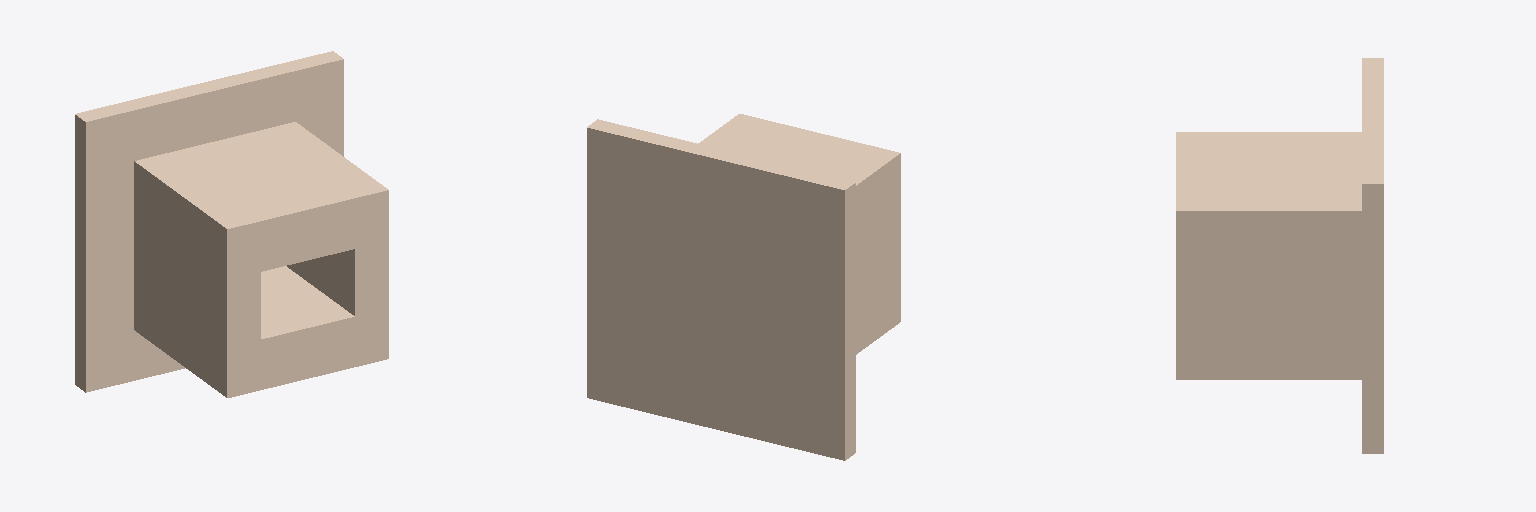
Rendered from industreal_tray_pick_rectangular_peg_12mm.obj.
3 renders of one model, left to right at view 1: azimuth 30°, elevation 25°; view 2: azimuth 150°, elevation 25°; view 3: azimuth 270°, elevation 25°, orthographic.
Visible parts, largest first — view 1: industreal_tray_pick_rectangular_peg_12mm; view 2: industreal_tray_pick_rectangular_peg_12mm; view 3: industreal_tray_pick_rectangular_peg_12mm.
Boxes of the visible parts, box(x1,y1,x2,y2) form: industreal_tray_pick_rectangular_peg_12mm: box(75, 51, 388, 397); industreal_tray_pick_rectangular_peg_12mm: box(587, 114, 900, 460); industreal_tray_pick_rectangular_peg_12mm: box(1176, 58, 1383, 453).
Size of the model in its own units: 0.04 by 0.04 by 0.028.